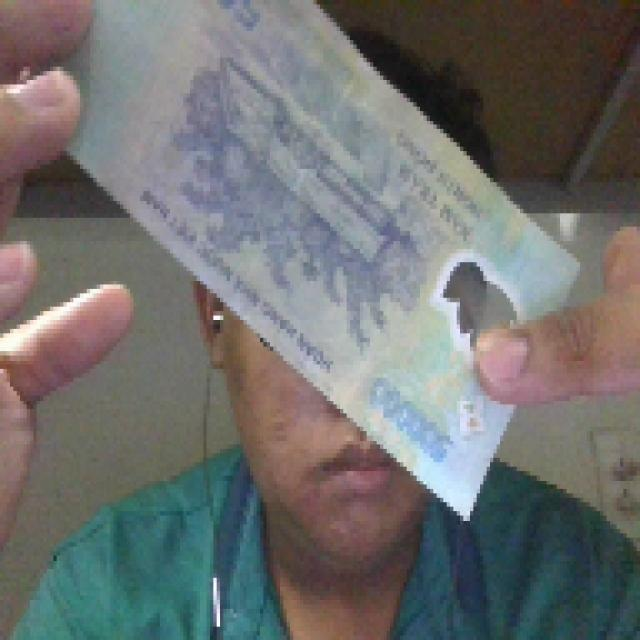500 000 VND: (30, 0, 586, 524)
